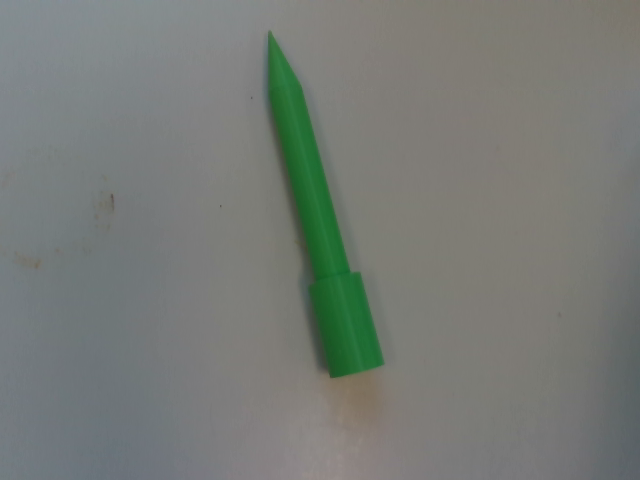Probe: (257, 21, 390, 386)
